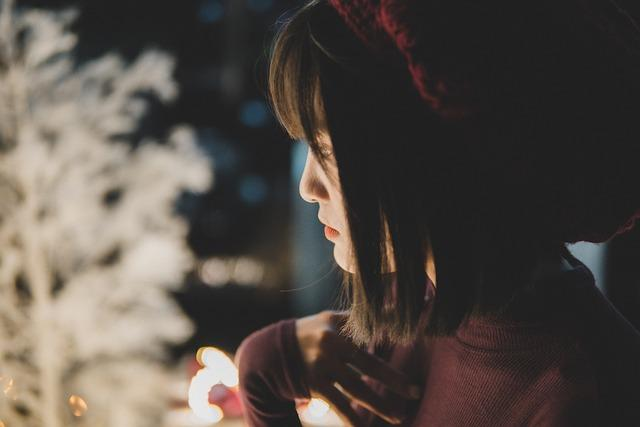Non_Gorille: (191, 5, 593, 427)
